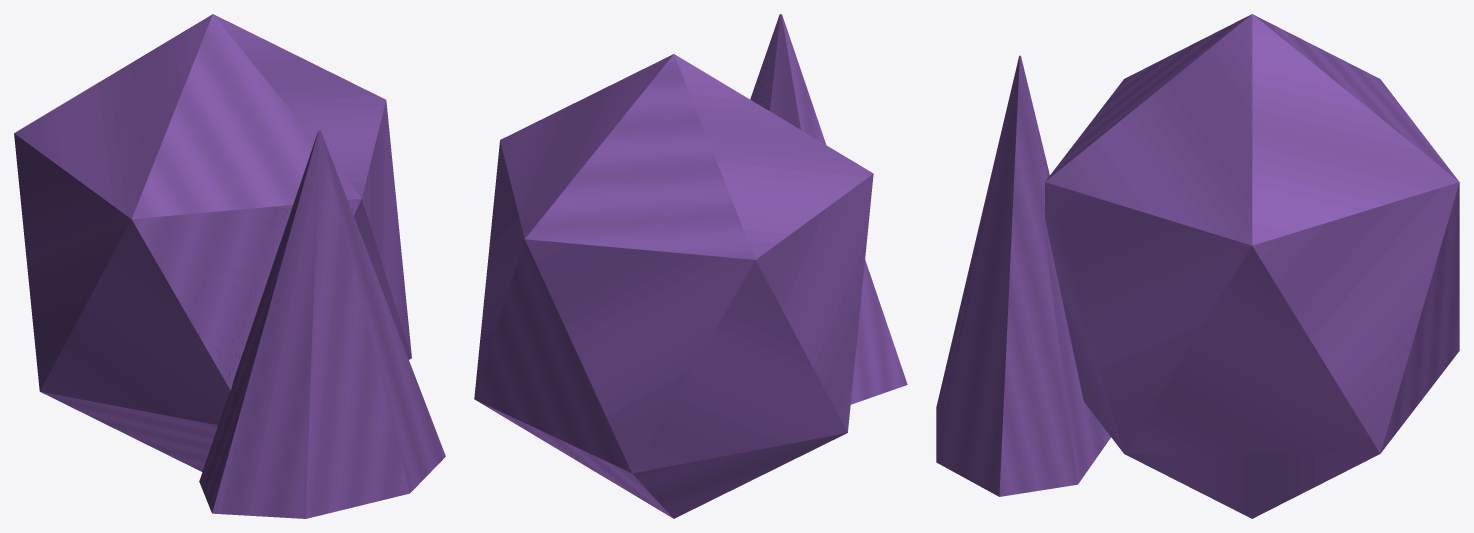
The model's file is giant.glb.
3 renders of one model, left to right at view 1: azimuth 30°, elevation 25°; view 2: azimuth 150°, elevation 25°; view 3: azimuth 270°, elevation 25°, orthographic. The views are drawn at different scales.
Visible parts, largest first — view 1: gear_giant; view 2: gear_giant; view 3: gear_giant.
Boxes of the visible parts, left/top/right/bottom form: gear_giant: left=14, top=14, right=445, bottom=518; gear_giant: left=474, top=14, right=907, bottom=518; gear_giant: left=936, top=14, right=1459, bottom=518.
Size of the model in its own units: 0.1878 by 0.24 by 0.2254.
Materials: 1 (1 with a texture image).
